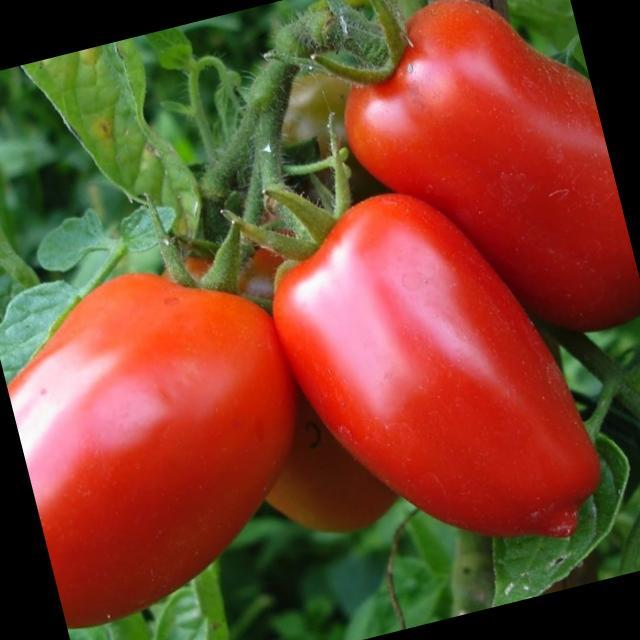TOMATO: (247, 158, 610, 584), (0, 239, 341, 630), (322, 0, 640, 375)
